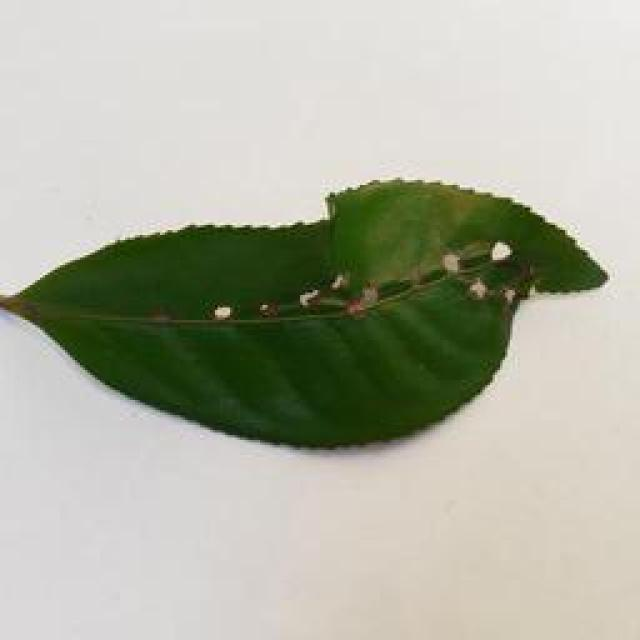Helopeltis: (2, 174, 633, 460)
